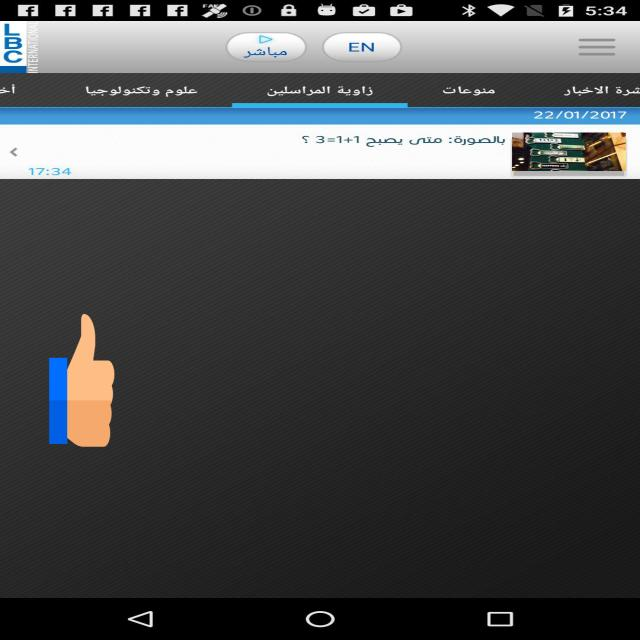privacy zuckering: (49, 311, 114, 450)
